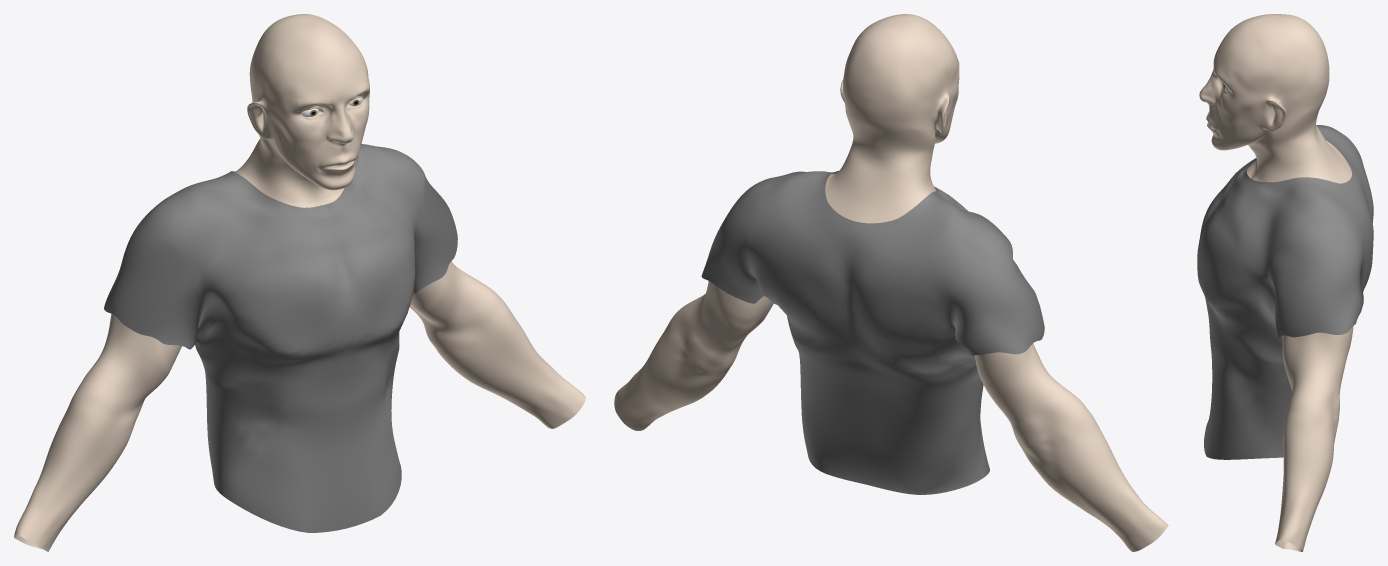
The picture shows the model from 3 angles, left to right: view 1: azimuth 30°, elevation 25°; view 2: azimuth 150°, elevation 25°; view 3: azimuth 270°, elevation 25°; orthographic projection. The views are drawn at different scales.
Visible parts, largest first — view 1: shirt, body, head; view 2: shirt, body, head; view 3: shirt, head, body.
Part boxes in pixels (x1,y1,x2,y2): shirt: (104,144,457,532); body: (14,188,585,551); head: (235,14,369,202); shirt: (701,171,1044,494); body: (614,174,1168,551); head: (827,14,959,223); shirt: (1197,125,1373,459); head: (1199,14,1349,183); body: (1246,140,1353,551).
Bounding box in the file's own units: 34.89 × 28.01 × 10.54.
